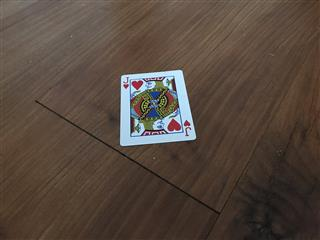JackOfHearts: (119, 68, 196, 146)
